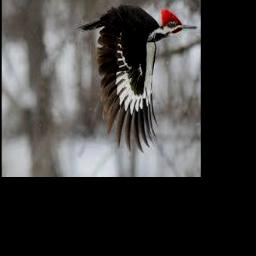Woodpecker: (79, 6, 198, 150)
